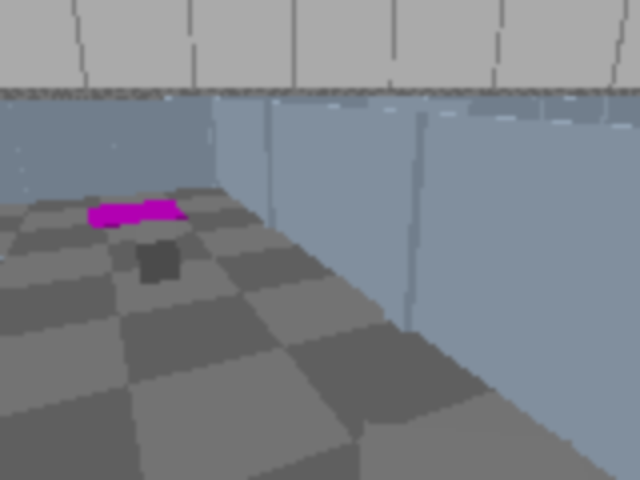goal_zone: (89, 199, 186, 229)
obstacle: (344, 421, 638, 478)
